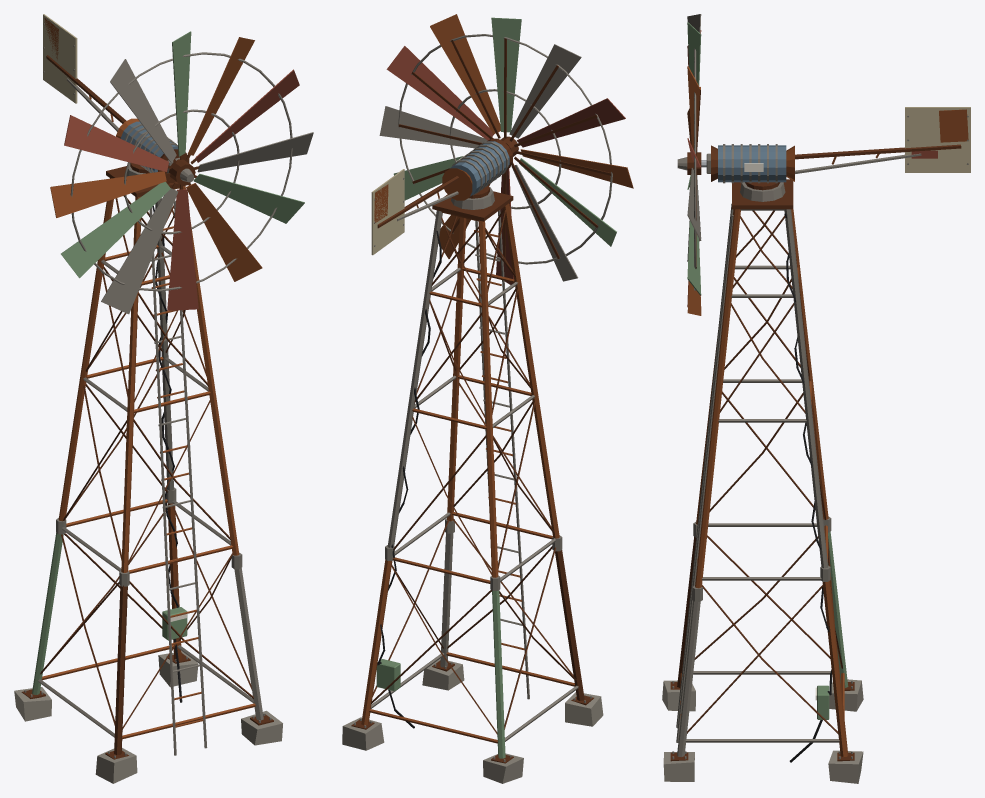
File: windmill.glb
3 views of the same model, side by side, from view 1: azimuth 30°, elevation 25°; view 2: azimuth 150°, elevation 25°; view 3: azimuth 270°, elevation 25° (orthographic). The views are drawn at different scales.
Visible parts, largest first — view 1: windmill, windmill_rotor, windmill_head; view 2: windmill, windmill_rotor, windmill_head; view 3: windmill, windmill_head, windmill_rotor.
Boxes of the visible parts, box(x1,y1,x2,y2) form: windmill: box(14, 166, 282, 783); windmill_rotor: box(50, 31, 313, 314); windmill_head: box(43, 14, 189, 184); windmill: box(342, 191, 603, 783); windmill_rotor: box(379, 14, 633, 284); windmill_head: box(371, 138, 512, 255); windmill: box(662, 179, 863, 783); windmill_head: box(701, 107, 970, 201); windmill_rotor: box(677, 14, 701, 315).
Bounding box in the file's own units: 3.38 × 8.98 × 3.52.
